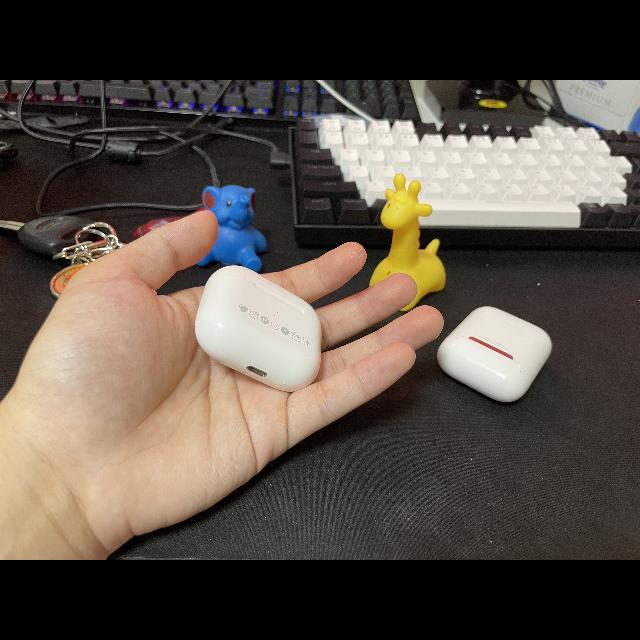airpod2: (431, 296, 557, 406)
airpod3: (186, 260, 332, 400)
